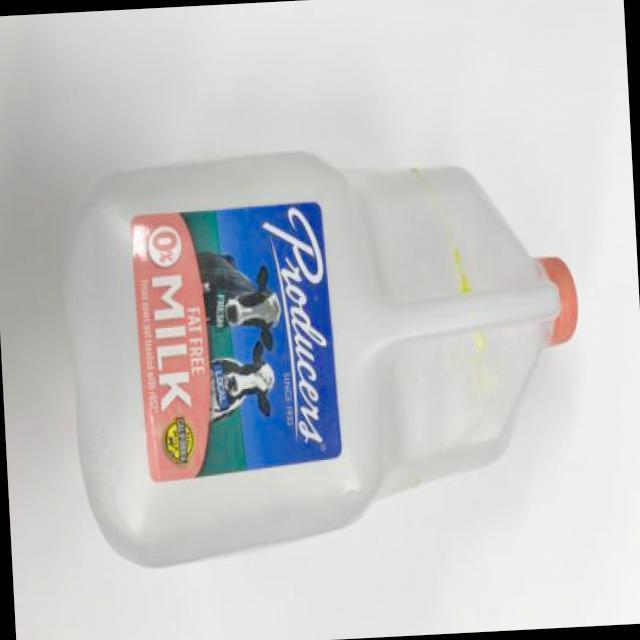HDPE Plastic: (56, 148, 586, 574)
